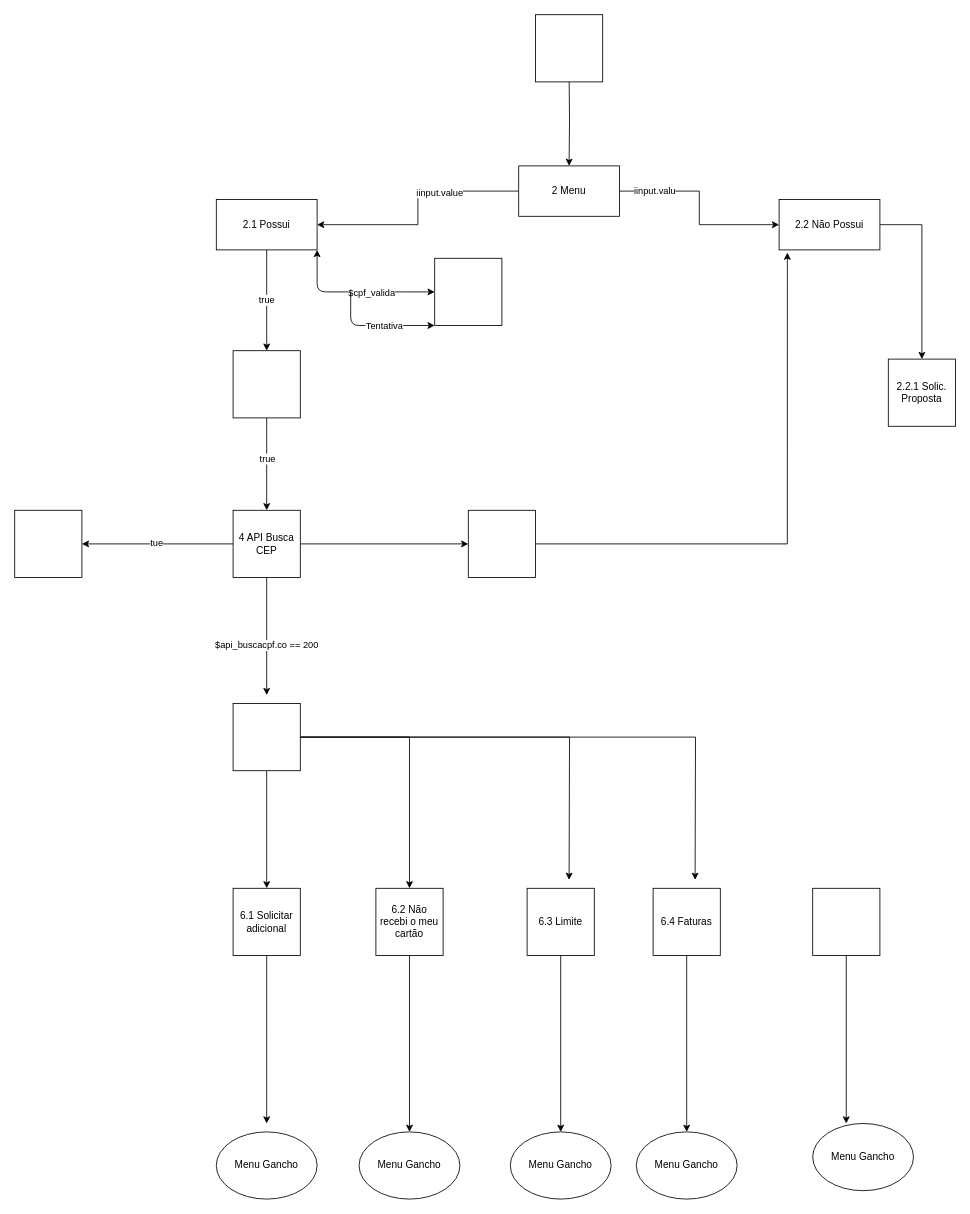
The diagram is 970 pixels wide and 1214 high, and some of its shapes have lost their labels. The shapes that lost their labels are listed below. From the top down, each one's box as (x1, y1, x2, y2) in pixels, then its label:
(535, 14, 603, 82): Miau Miau Cartão
(434, 257, 502, 326): 3.1 CPF Inválido
(232, 350, 300, 418): 3 CPf Válido
(14, 509, 82, 578): 5 Falha API
(467, 509, 536, 578): 5.1 Não Cliente
(232, 703, 300, 771): 6 Sobre o que quer falar
(812, 887, 880, 956): 6.5 Outros assuntos
